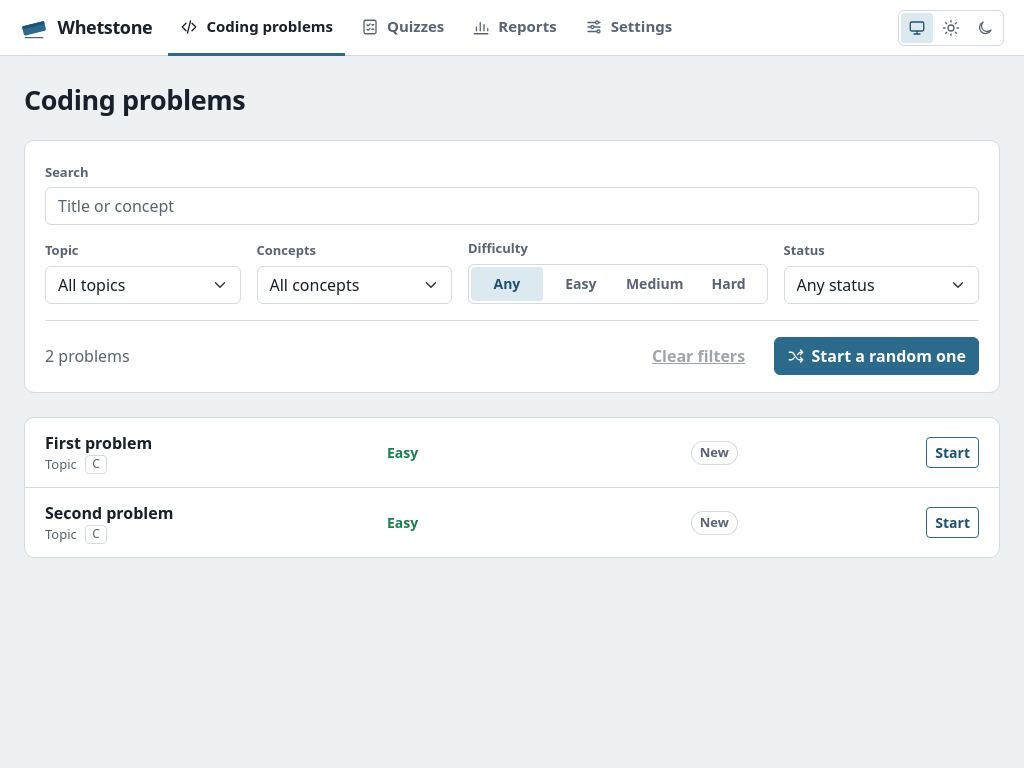
Test: App › lowers the maximum score with each hint and caps the grade
This screenshot has width=1024, height=768.
Click the button with aria-label "Start First problem".
click(953, 453)  # box left=926, top=437, right=979, bottom=468
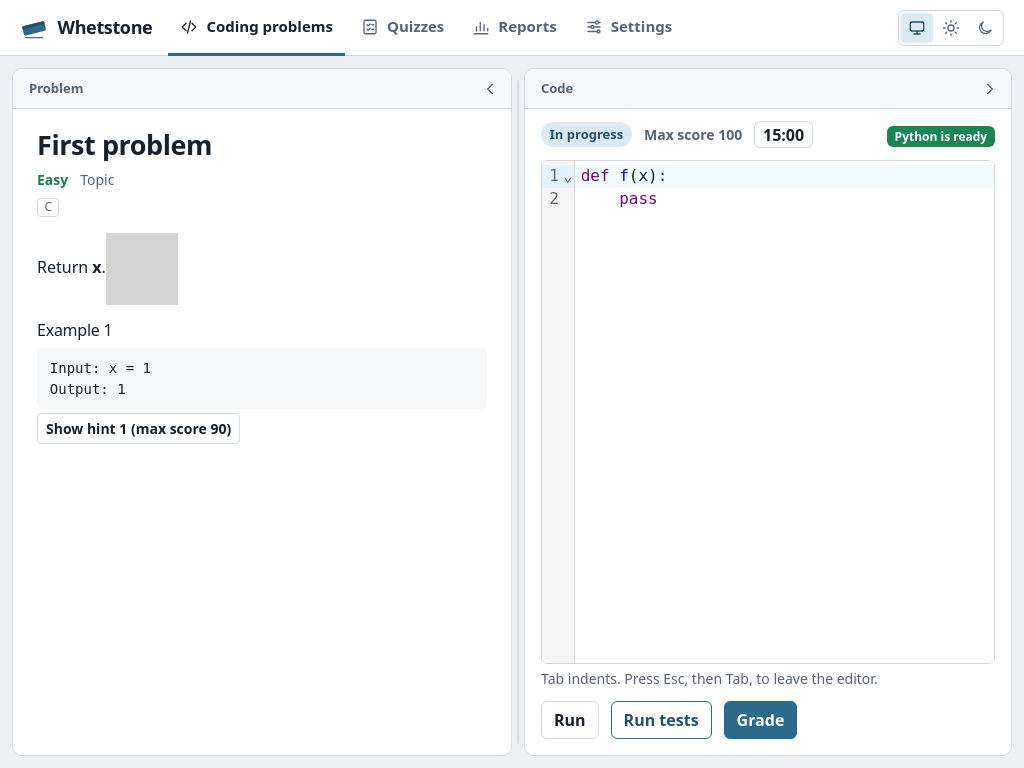
Click the button "Show hint 1 (max score 90)".
click(139, 429)  # box left=37, top=414, right=240, bottom=444
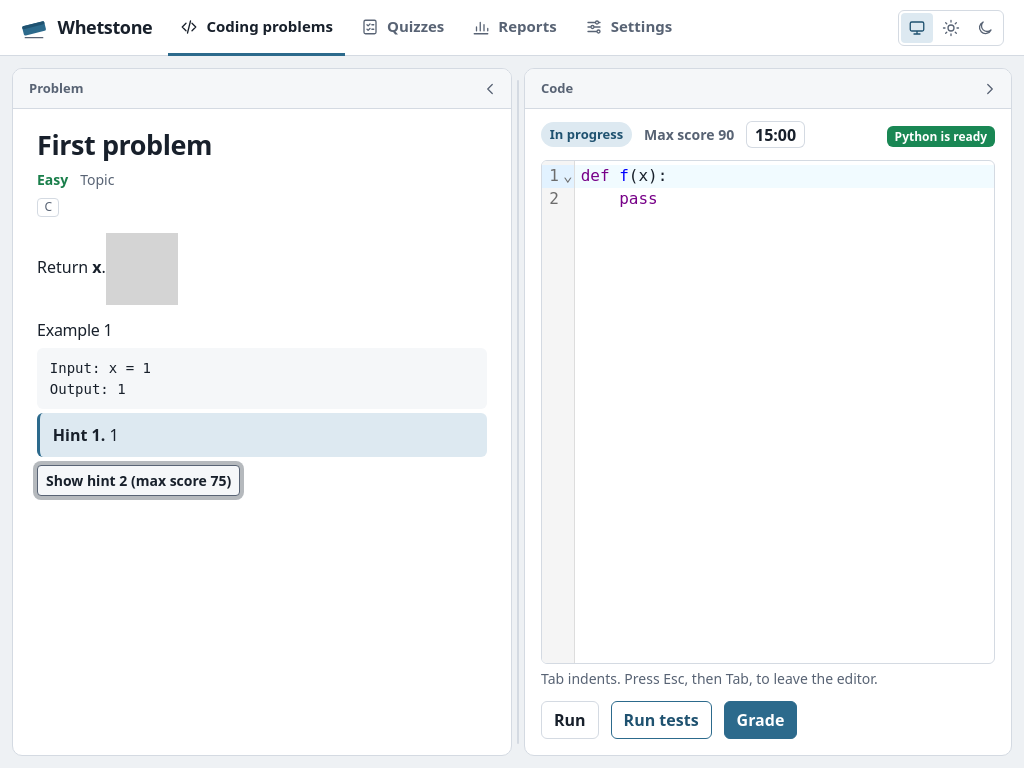
Click the button "Show hint 2 (max score 75)".
click(139, 480)  # box left=37, top=465, right=240, bottom=496
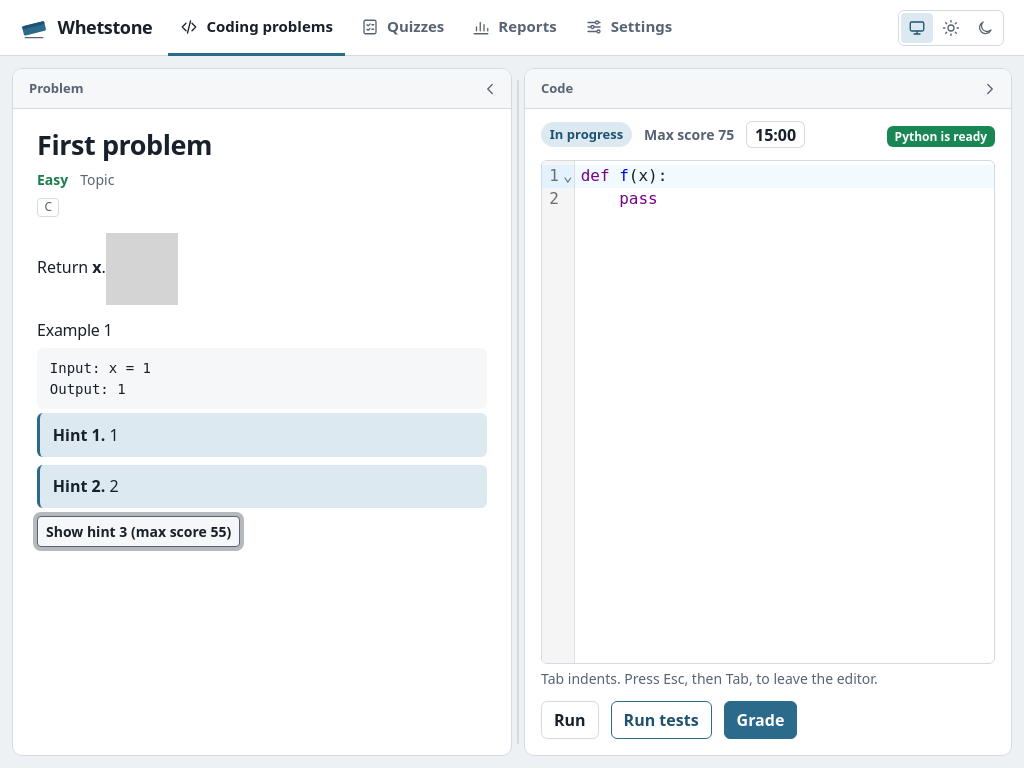
Check: the element named "Hints" shows "Hint 2. 2", box left=37, top=414, right=487, bottom=547
Click the button "Grade".
click(760, 720)  # box left=724, top=701, right=797, bottom=739
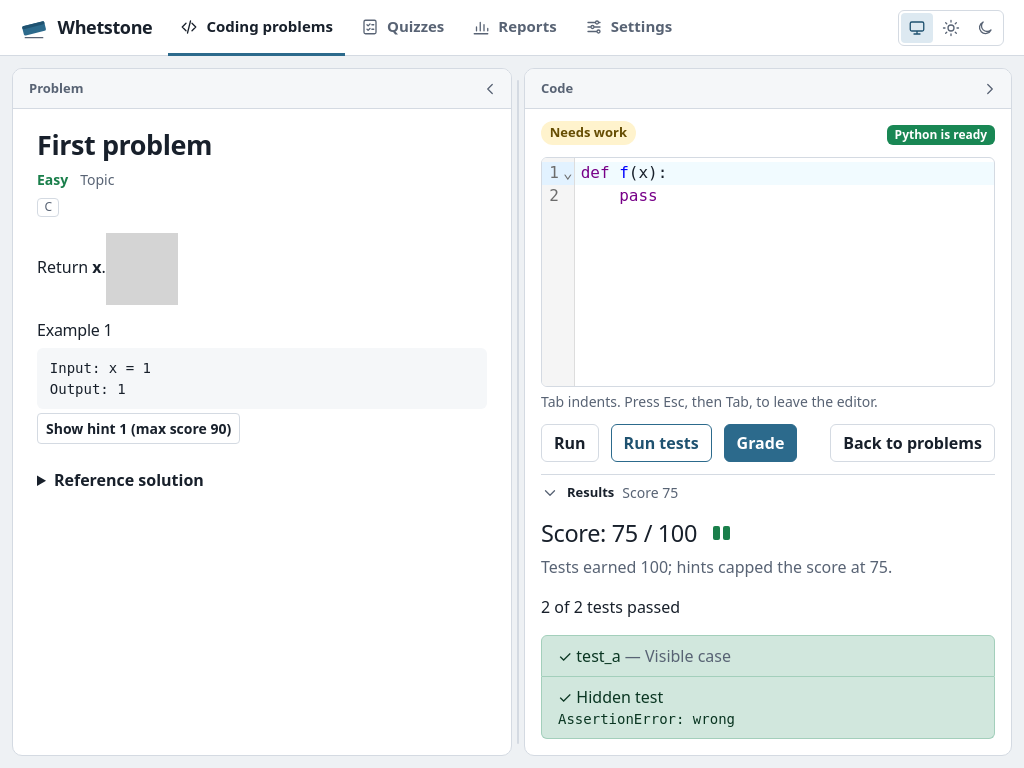
Check: the element named "Grade" shows "Score: 75 / 100", box left=541, top=519, right=995, bottom=739
Check: the element named "Grade" shows "hints capped the score at 75", box left=541, top=519, right=995, bottom=739
